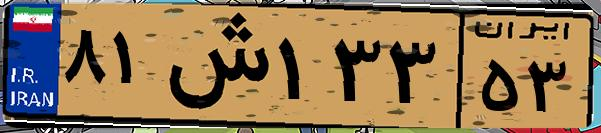1: (270, 28, 330, 110), (110, 28, 158, 98)
3: (385, 28, 445, 110), (330, 28, 385, 110), (525, 38, 570, 115)
5: (475, 38, 525, 113)
8: (57, 26, 110, 100)
ش: (158, 12, 270, 120)
